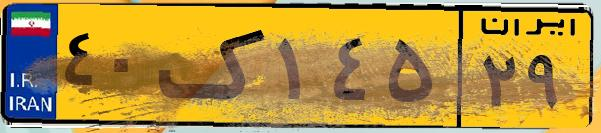0: (110, 28, 158, 98)
1: (270, 28, 330, 110)
2: (475, 38, 525, 113)
4: (330, 28, 385, 110), (57, 26, 110, 100)
5: (385, 28, 445, 110)
9: (525, 38, 570, 115)
ک: (158, 12, 270, 120)
